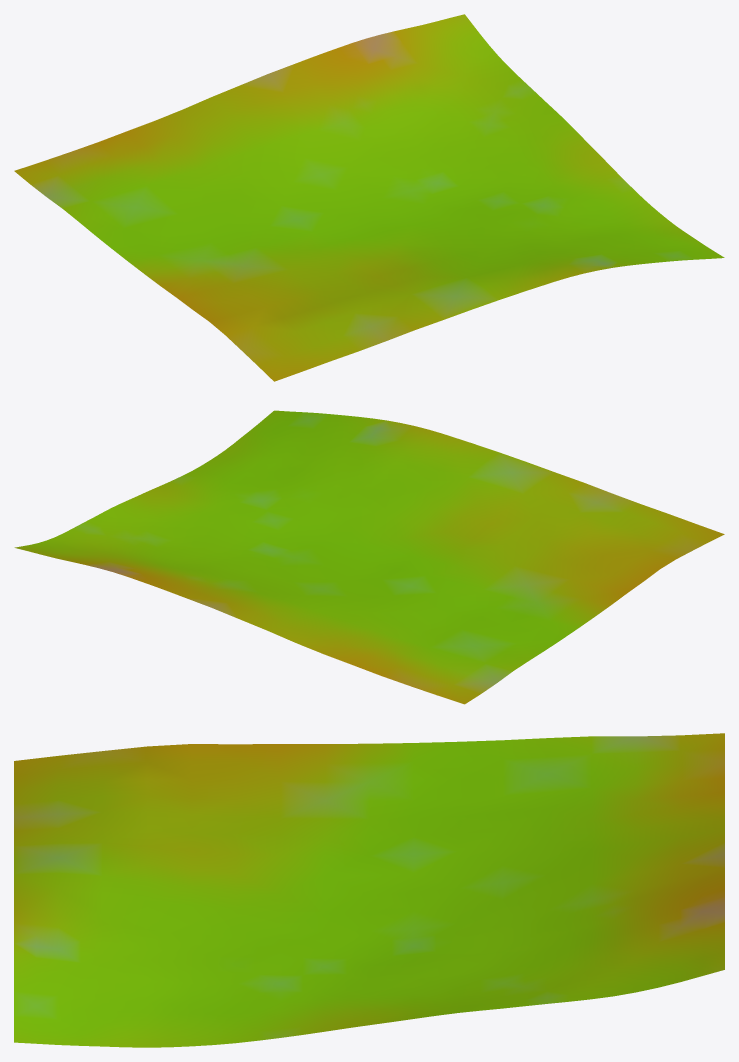
The model's file is SM_BM_BT_Terrain_0_4.glb.
3 views of the same model, one above another, from view 1: azimuth 30°, elevation 25°; view 2: azimuth 150°, elevation 25°; view 3: azimuth 270°, elevation 25° (orthographic). The views are drawn at different scales.
Parts seen in each view (by area): view 1: SM_BM_BT_Terrain_0_4; view 2: SM_BM_BT_Terrain_0_4; view 3: SM_BM_BT_Terrain_0_4.
Boxes of the visible parts, x1,y1,x2,y2 form: SM_BM_BT_Terrain_0_4: [14, 14, 724, 381]; SM_BM_BT_Terrain_0_4: [14, 410, 724, 704]; SM_BM_BT_Terrain_0_4: [14, 733, 724, 1047].
Bounding box in the file's own units: 256 × 36.5 × 256.
